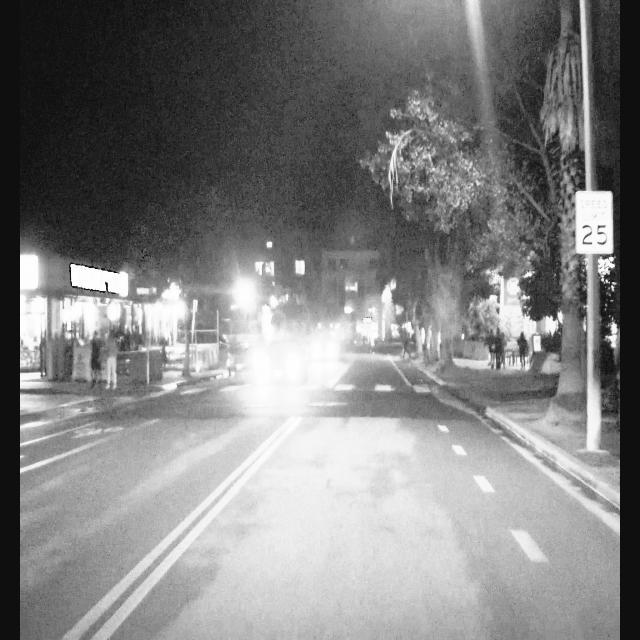Sign: (576, 190, 614, 254)
